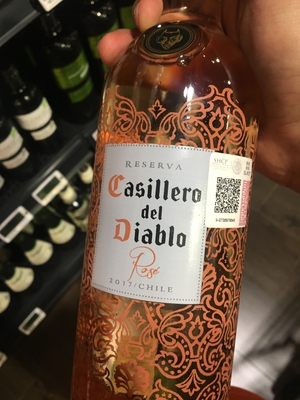casillero del diablo rose: (72, 11, 257, 400)
